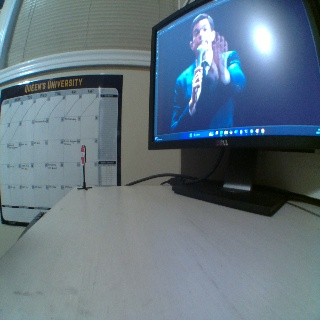sign_stop: (80, 145, 85, 164)
